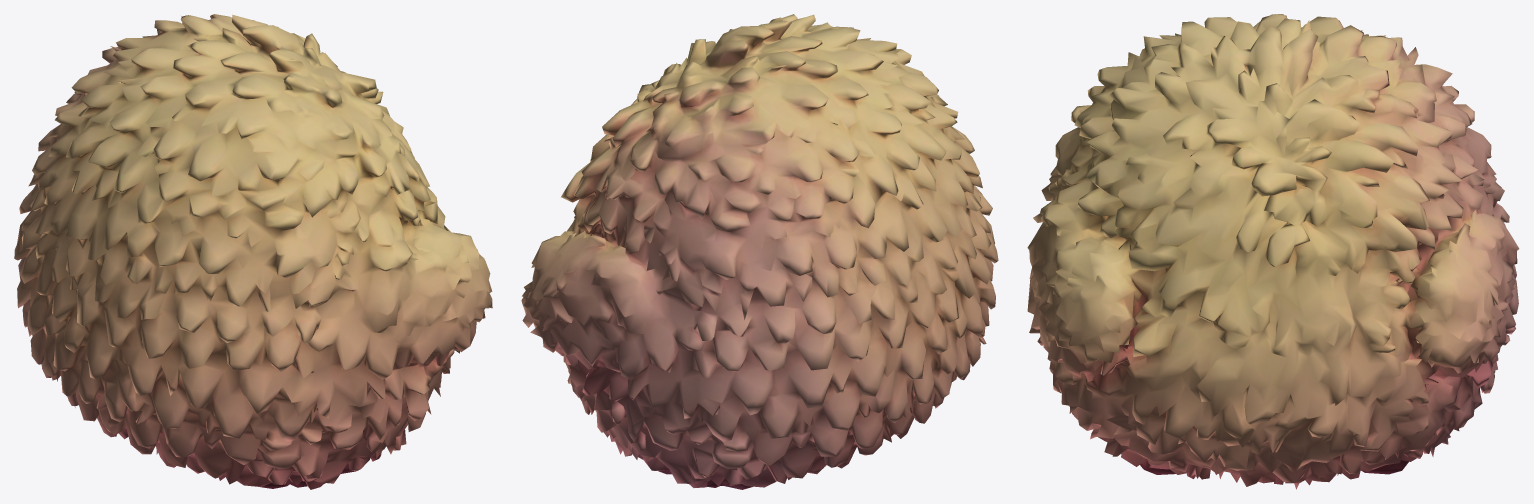
Rendered from body.glb.
3 renders of one model, left to right at view 1: azimuth 30°, elevation 25°; view 2: azimuth 150°, elevation 25°; view 3: azimuth 270°, elevation 25°, orthographic. The views are drawn at different scales.
Parts seen in each view (by area): view 1: tripo_node_0b4a287e-bb77-4b58-9eb2-fefefd075323; view 2: tripo_node_0b4a287e-bb77-4b58-9eb2-fefefd075323; view 3: tripo_node_0b4a287e-bb77-4b58-9eb2-fefefd075323.
Part boxes in pixels (<box>): tripo_node_0b4a287e-bb77-4b58-9eb2-fefefd075323: <box>14,14,492,489</box>; tripo_node_0b4a287e-bb77-4b58-9eb2-fefefd075323: <box>521,14,998,489</box>; tripo_node_0b4a287e-bb77-4b58-9eb2-fefefd075323: <box>1027,14,1519,489</box>.
Bounding box in the file's own units: 0.8968 × 0.9487 × 1.
1 material, 1 textured.
